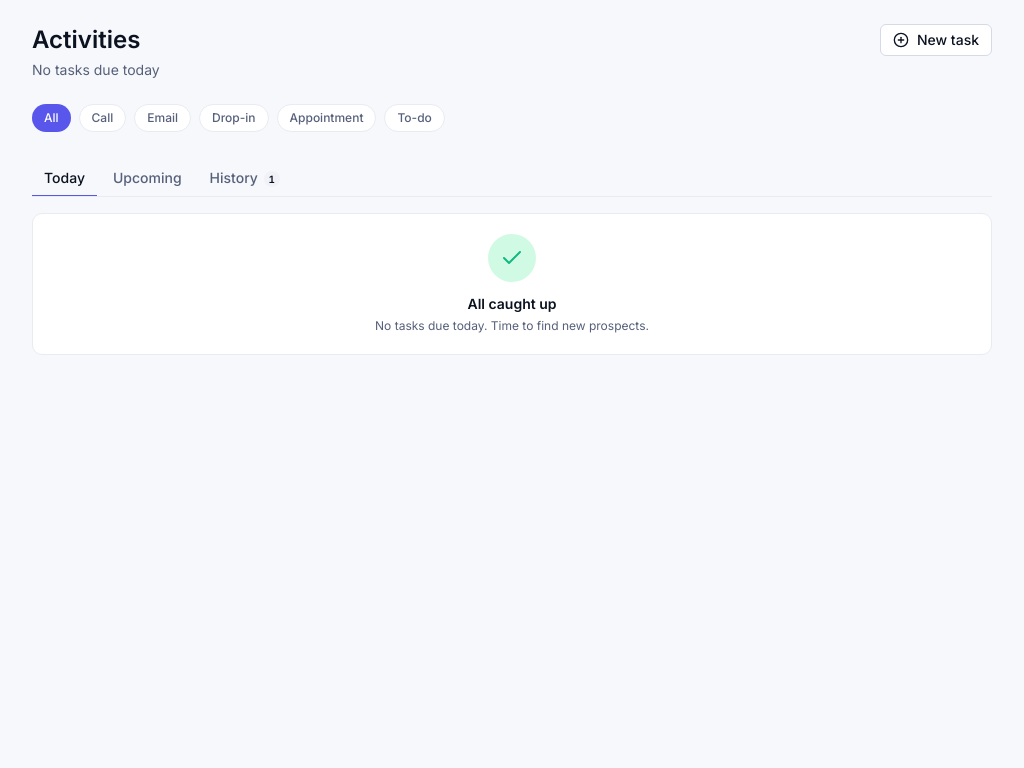
Test: ActivitiesPage / edit from History › tapping a History row opens the edit sheet prefilled with that activity
Click the tab "History 1" at (245, 178), box [198,160,292,196]
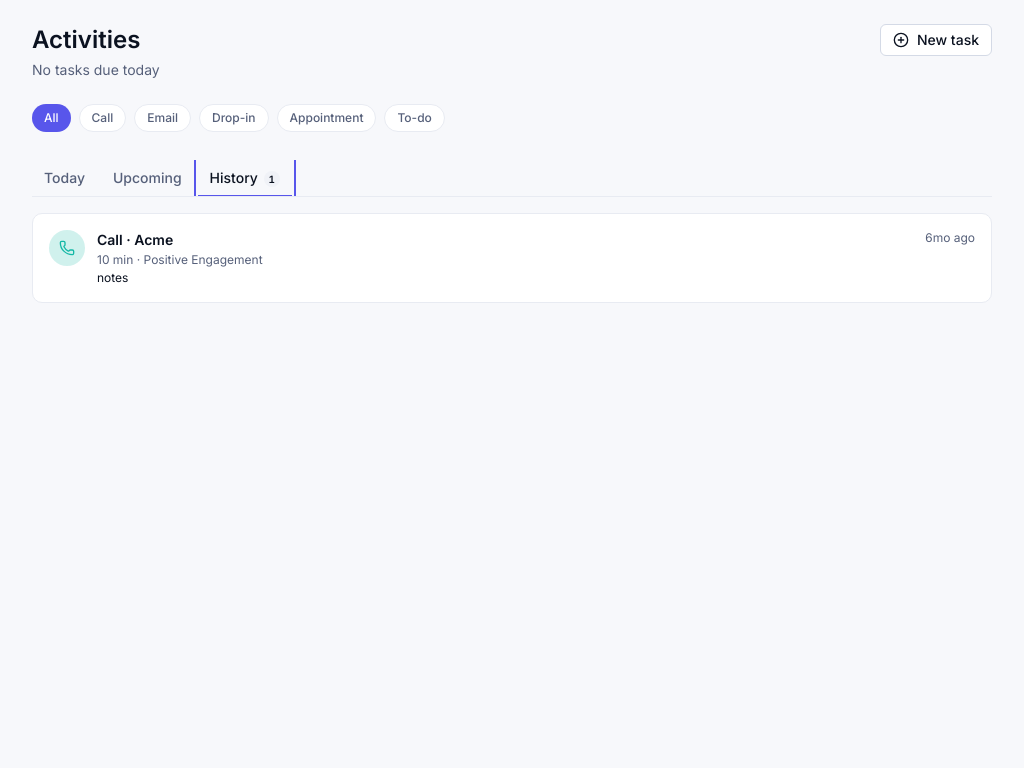
Click the button with aria-label "Edit Call activity" at (67, 248), box [32,213,992,303]
(page scrolled)
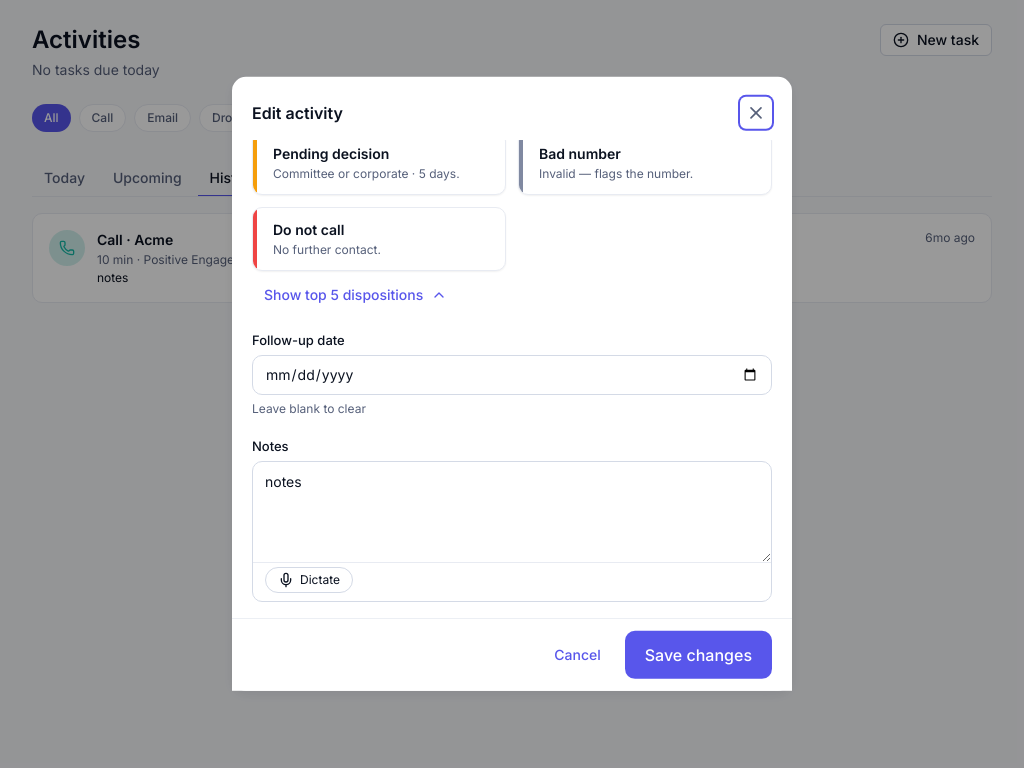
Expected: the heading "Edit activity" is shown, [252,101,343,125]
Expected: the text box showing "notes" is shown, [253,462,771,562]
